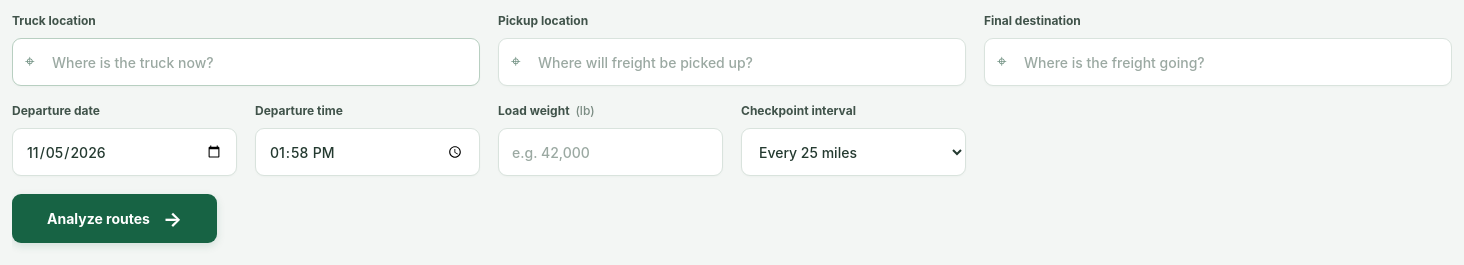
journey planning form › debounces autocomplete and fills a selected provider suggestion
The width and height of the screenshot is (1464, 265).
Type "New York" into the field labelled "Truck location" at (246, 62), box [12,38,480,86]
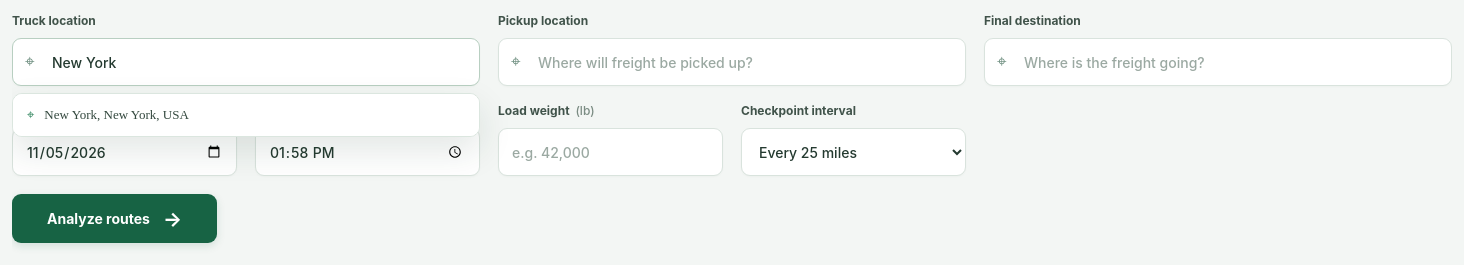
Click the option "⌖ New York, New York, USA" at (117, 114), box [13,94,479,136]
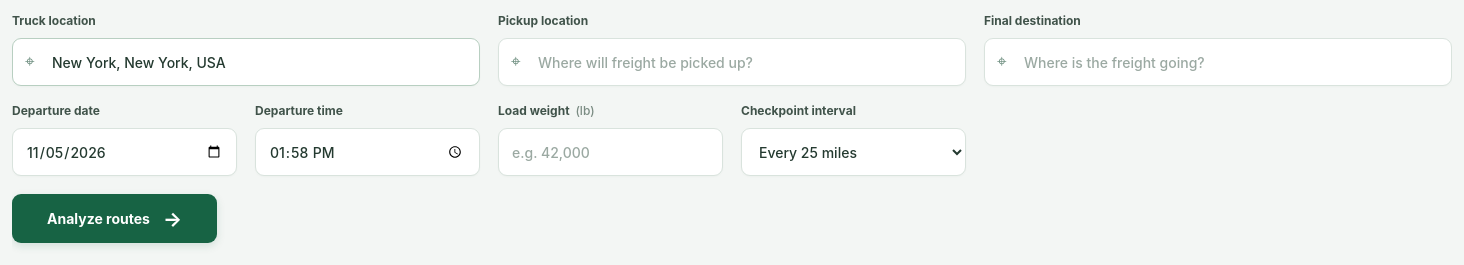
Check: the field labelled "Truck location" holds "New York, New York, USA", box [12,38,480,86]
